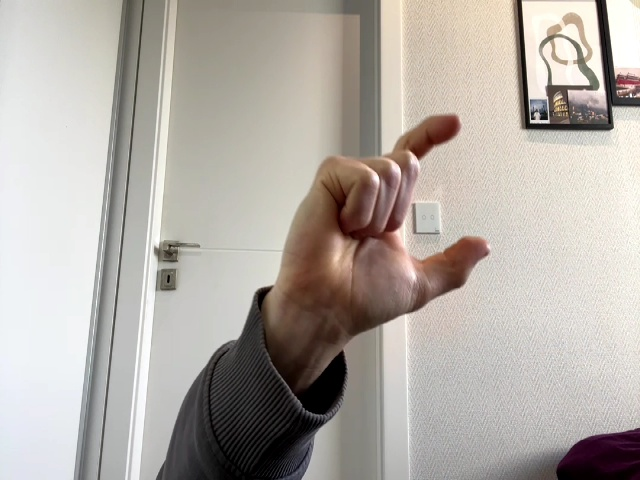C: (277, 115, 490, 335)
